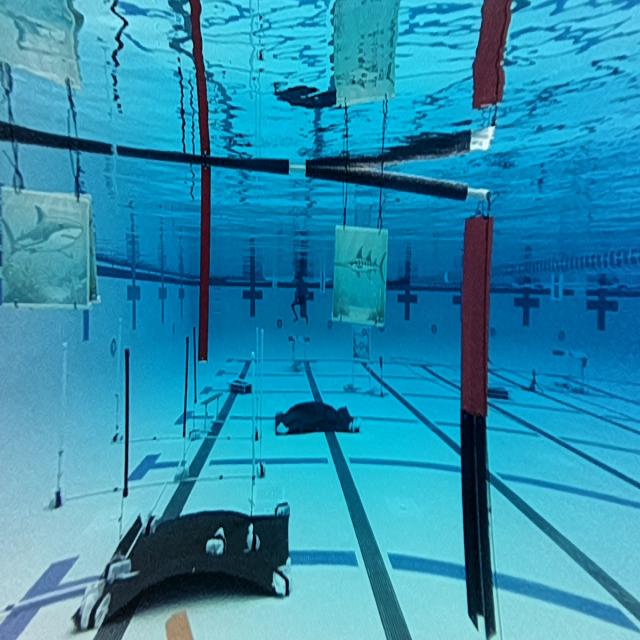pointed_nose: (331, 221, 392, 334)
round_nose: (0, 188, 104, 310)
